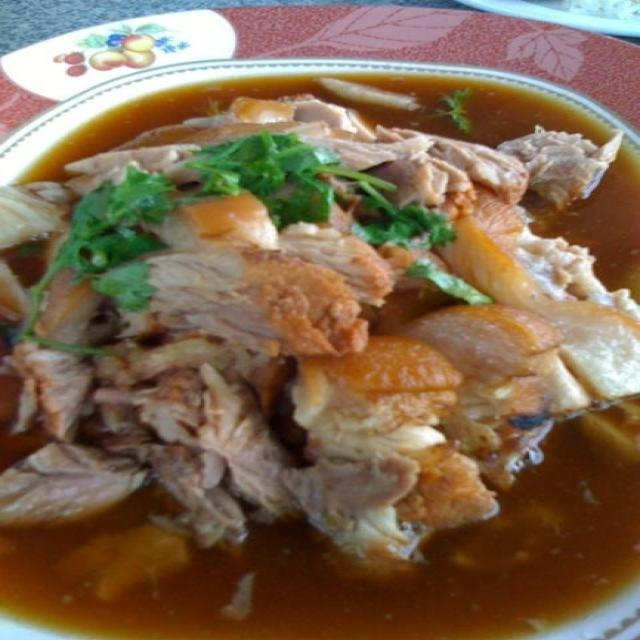猪肉菜式: (9, 55, 615, 629)
